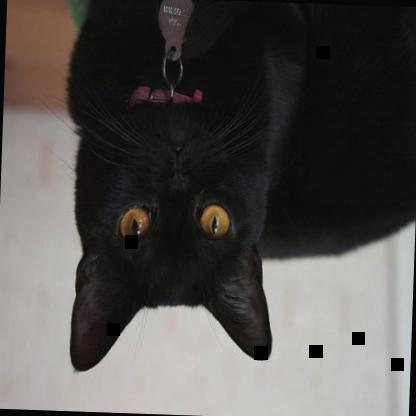cat: (58, 104, 268, 378)
